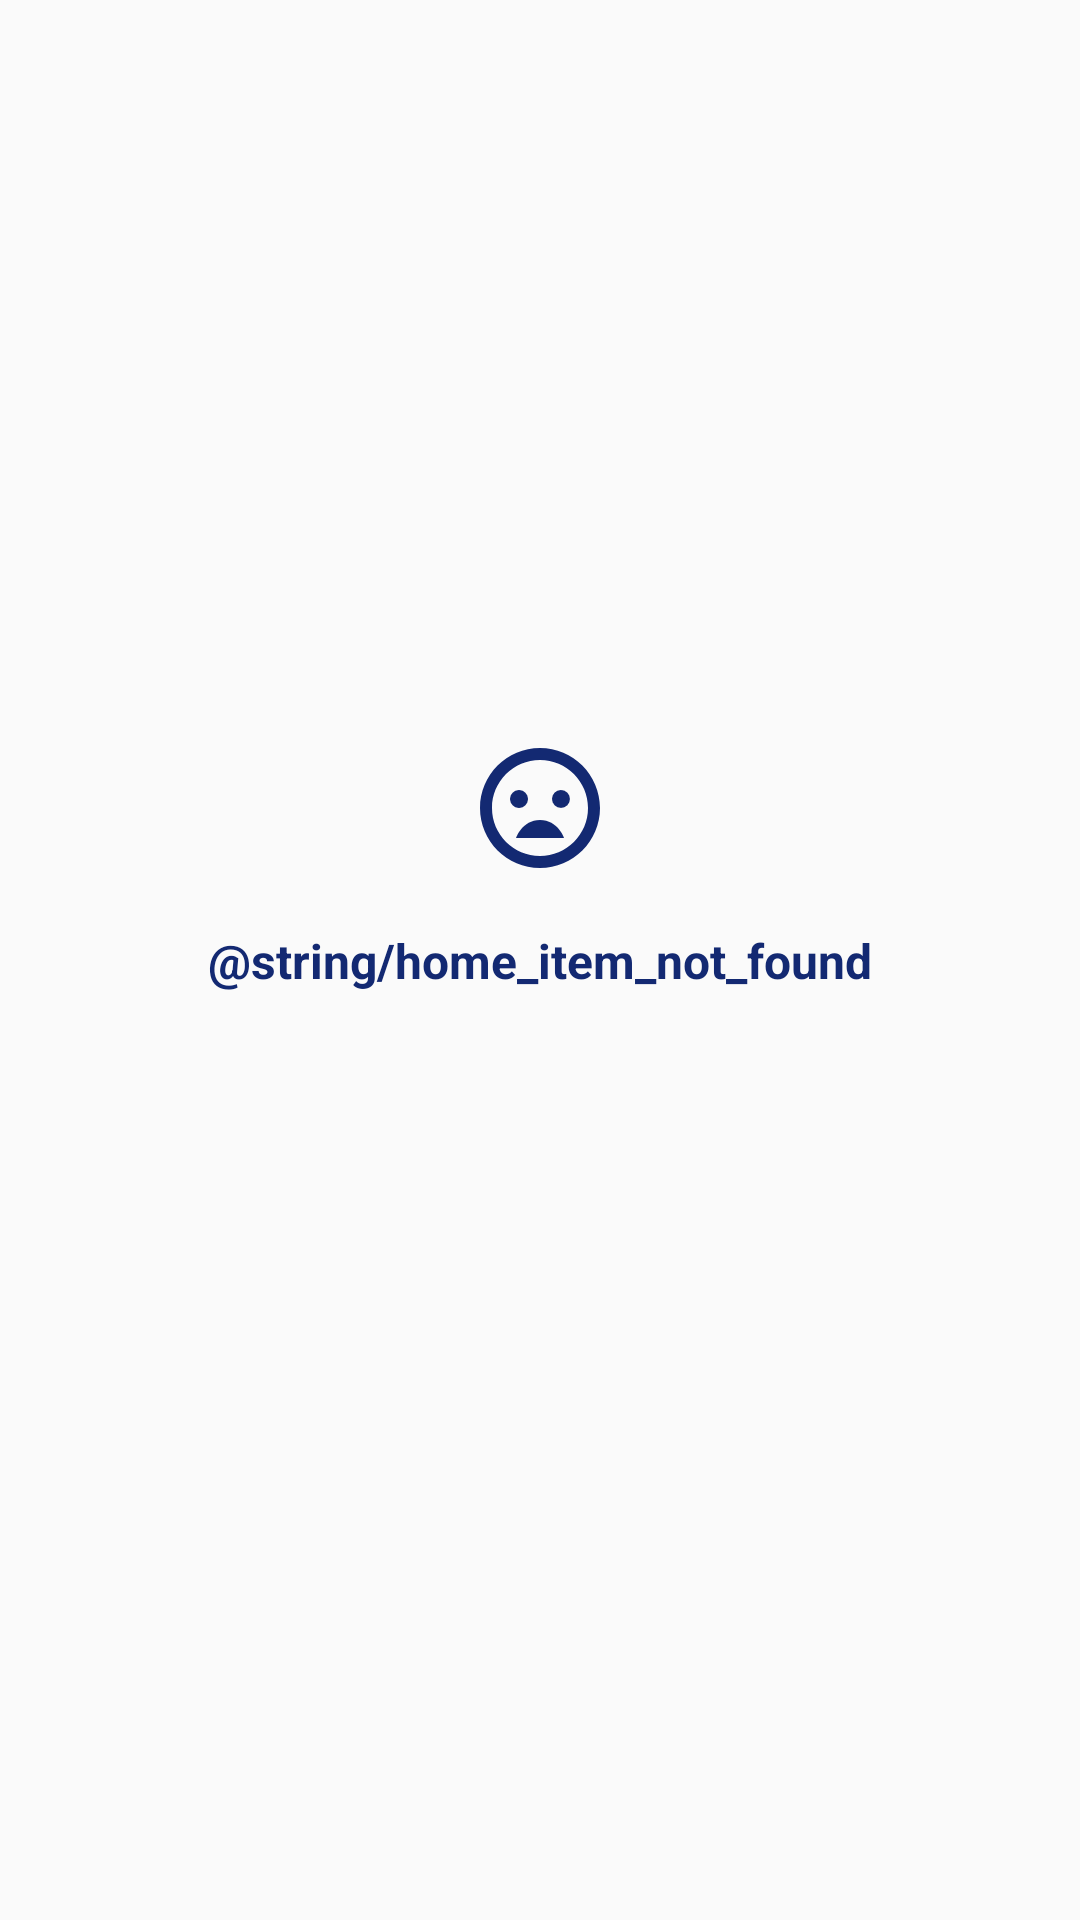

Screen size 1080 x 1920. Icon name, then its center in pixels as point (x, y):
face sad: point (540, 808)
